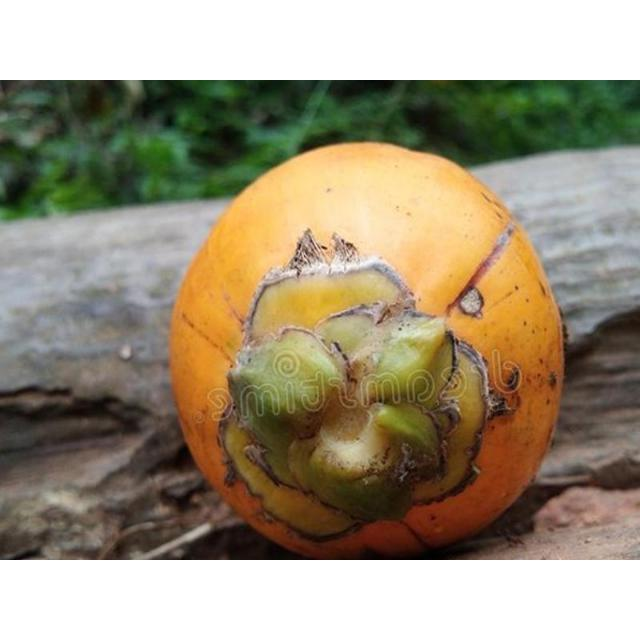good: (169, 142, 565, 559)
